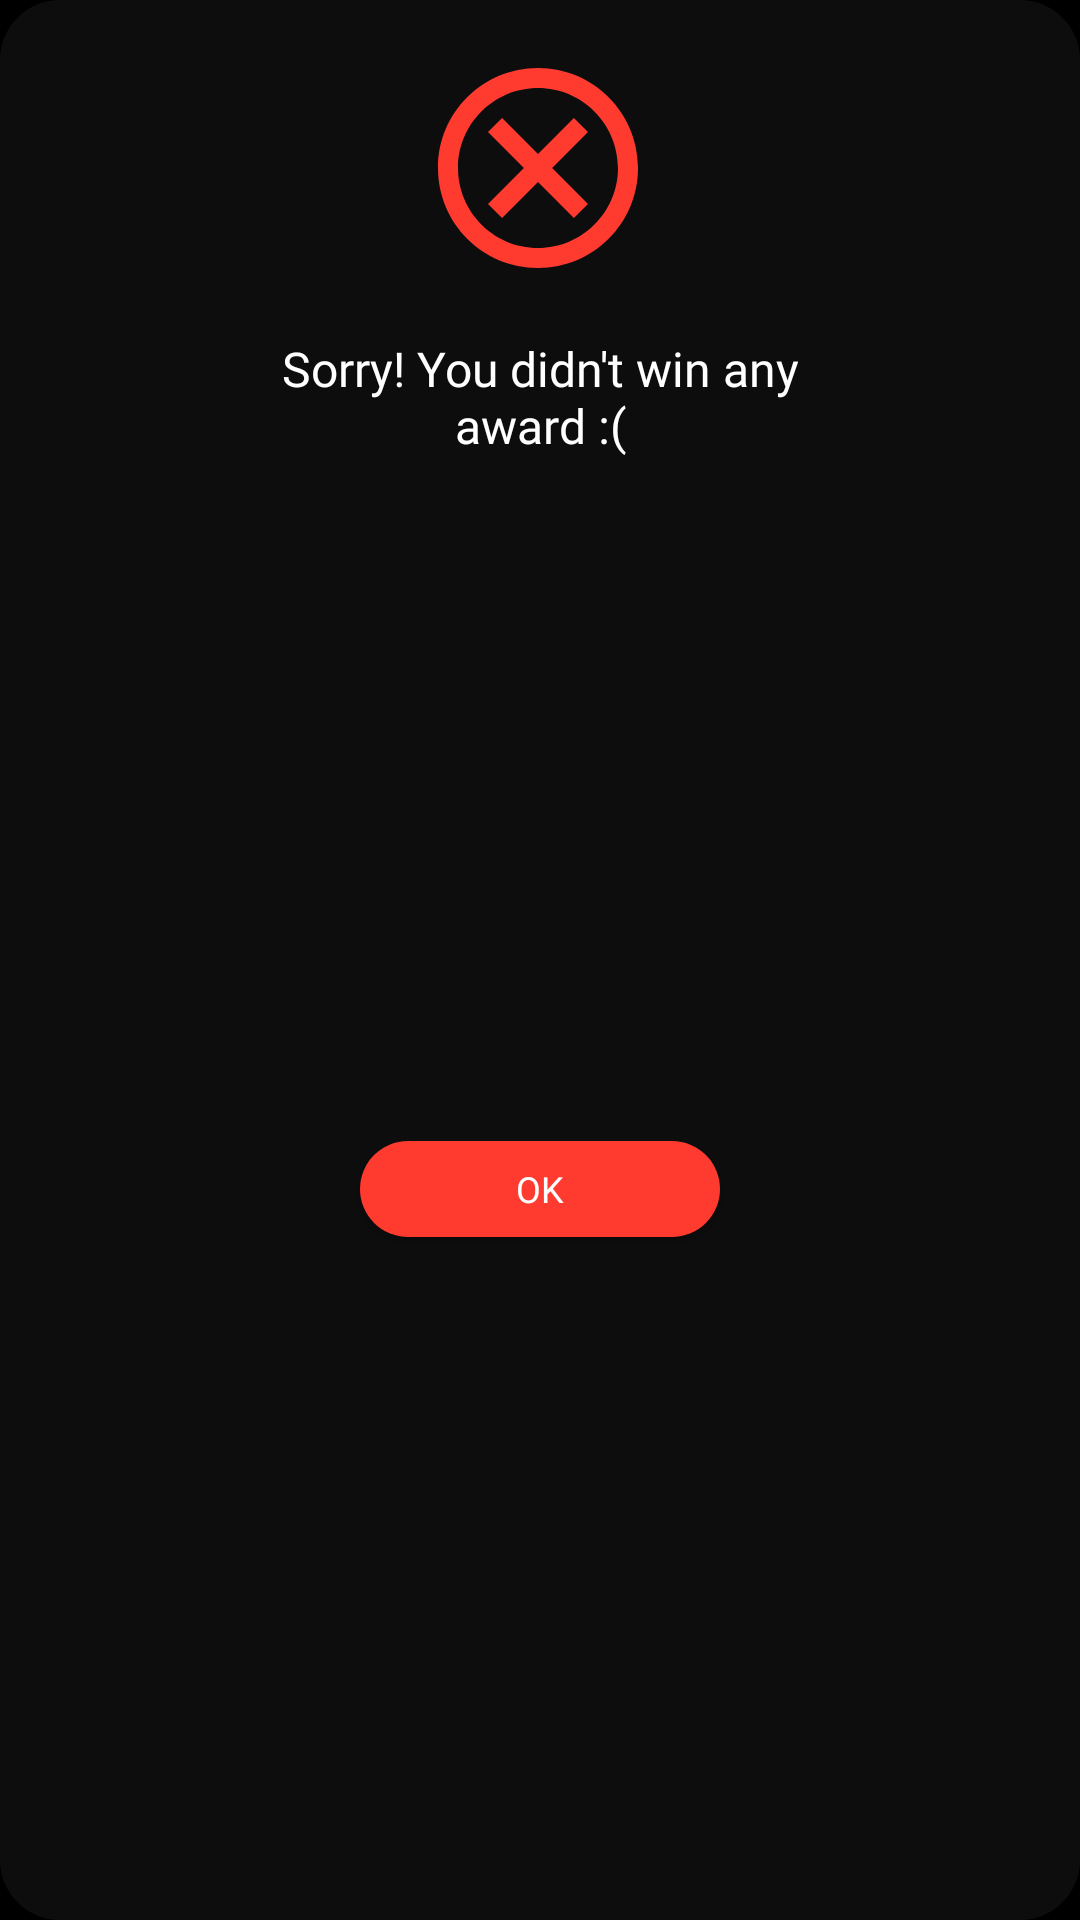

Icon bounding boxes for this 1080px×1920px phone screenshot, format (x1, y1, x2, y2):
Wrong code!: (438, 68, 638, 268)
